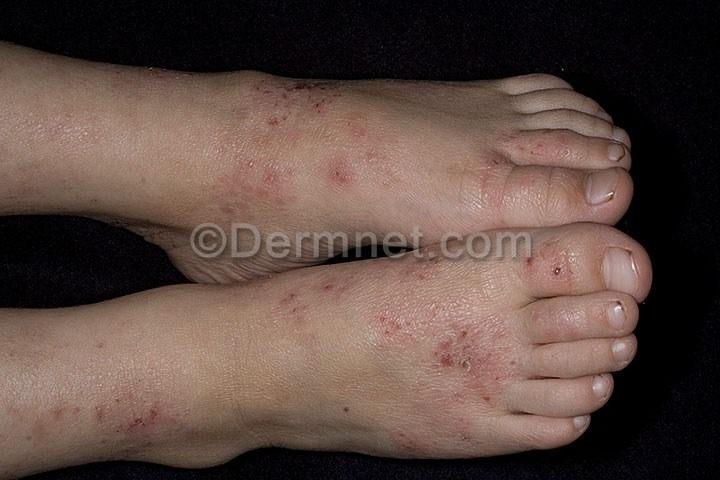Eczema: (2, 254, 591, 463), (4, 46, 595, 247)
